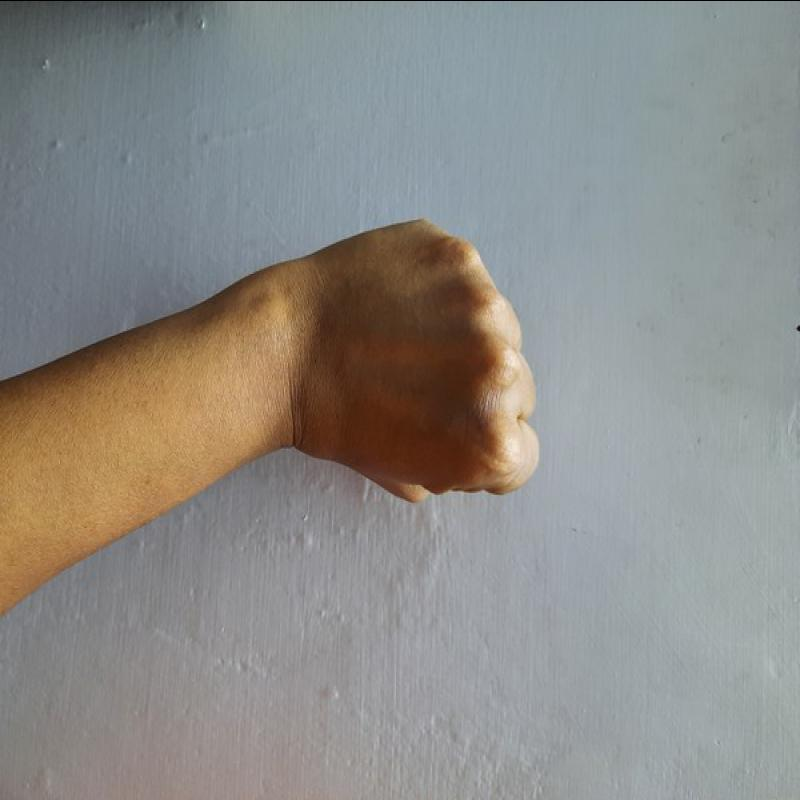Mushti: (276, 209, 556, 511)
